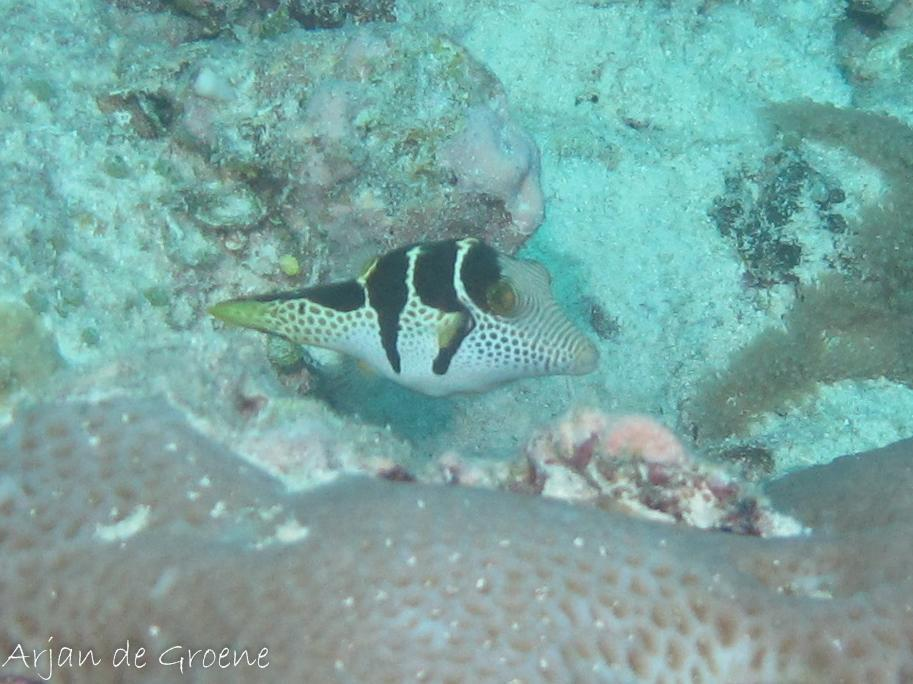Fish: (191, 210, 608, 407)
